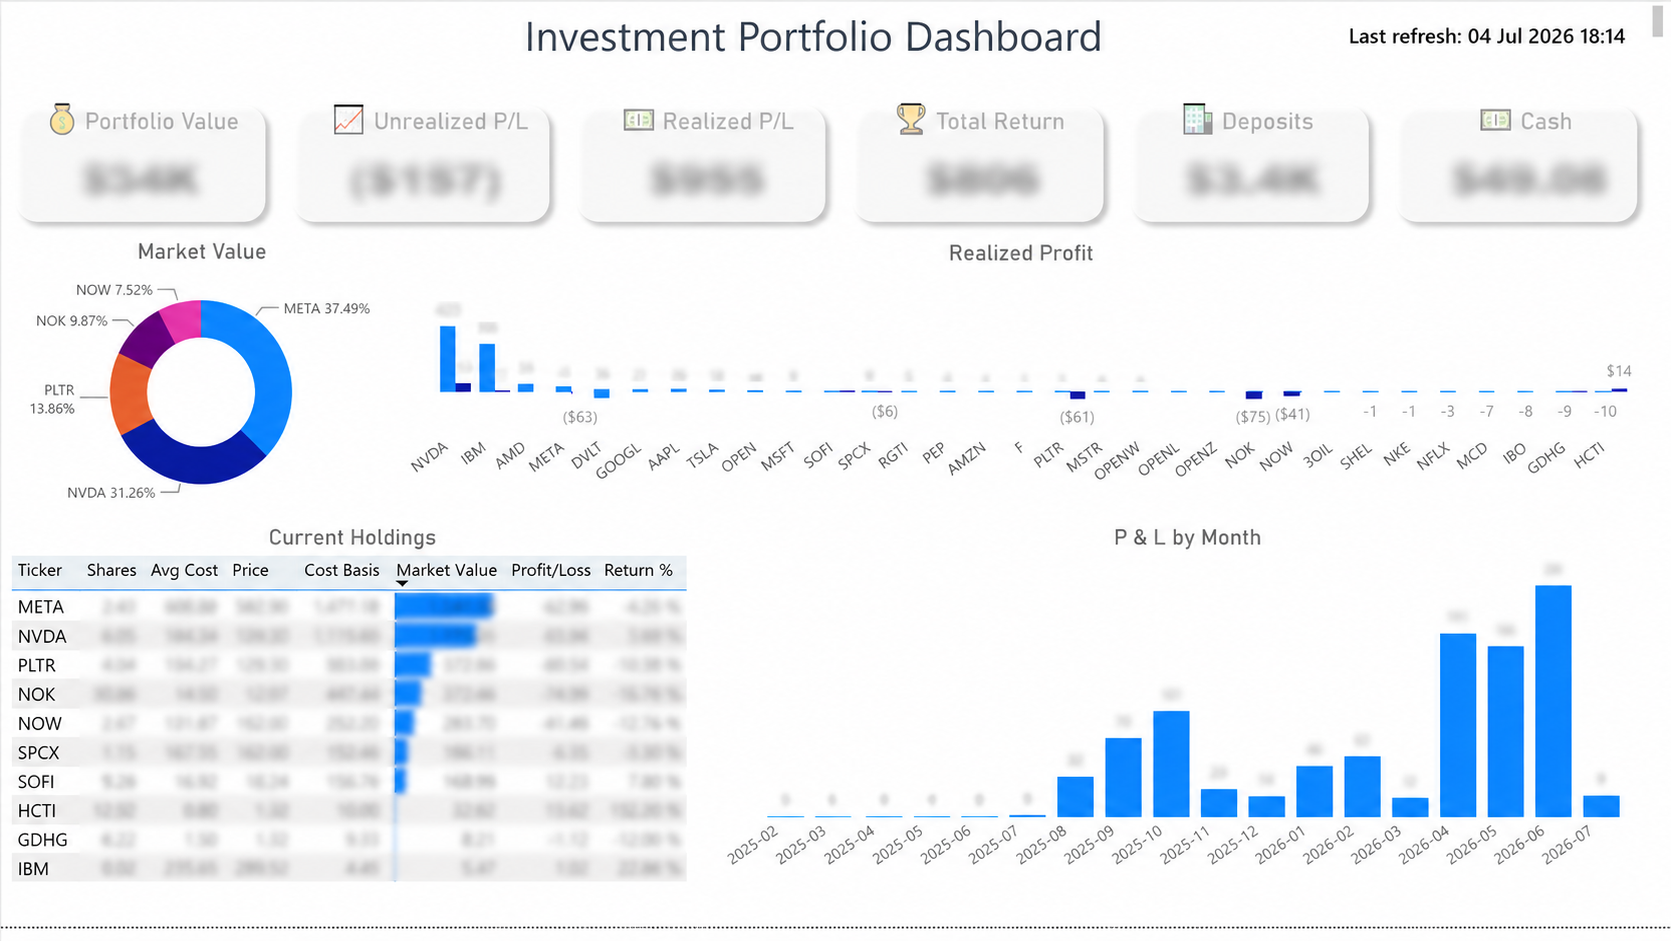

What the dashboard file says about the page in this screenshot:
{"tool":"powerbi","page":{"name":"Investment Portfolio Dashboard","canvas":[1280,720],"ordinal":0},"visuals":[{"type":"cardVisual","title":"🏦 Deposits","fields":{"Data":["portfolio_powerbi.Net Cash Invested"]},"box":[866.9,76,193.2,92.8],"z":0},{"type":"cardVisual","title":"💰 Portfolio Value","fields":{"Data":["portfolio_powerbi.Portfolio Value"]},"box":[0.5,76.1,213.6,93.1],"z":1000},{"type":"cardVisual","title":"🏆 Total Return","fields":{"Data":["portfolio_powerbi.Total Return"]},"box":[647.3,76,202.6,92.8],"z":2000},{"type":"cardVisual","title":"📈 Unrealized P/L","fields":{"Data":["portfolio_powerbi.Unrealized Profit"]},"box":[219.2,76,213.6,92.8],"z":3000},{"type":"shape","box":[214.8,71.2,207.7,104.7],"z":4000},{"type":"cardVisual","title":"💵 Cash","fields":{"Data":["portfolio_powerbi.Cash Remaining"]},"box":[1074.5,76,205.1,92.8],"z":5000},{"type":"shape","box":[1064.7,71.2,207.7,104.7],"z":6000},{"type":"cardVisual","title":"💵 Realized P/L","fields":{"Data":["portfolio_powerbi.Realized Profit"]},"box":[432.8,76,213.6,92.8],"z":7000},{"type":"shape","box":[856.7,70.4,207.7,104.7],"z":8000},{"type":"shape","box":[428.8,70.4,207.7,104.7],"z":9000},{"type":"donutChart","title":"Market Value","fields":{"Y":["portfolio_powerbi.Market Value"],"Category":["portfolio_positions.Ticker"]},"box":[0.9,180.4,303,222.1],"z":10000},{"type":"shape","box":[0.9,70.4,207.7,105.5],"z":11000},{"type":"shape","box":[642.7,70.4,207.7,104.7],"z":12000},{"type":"clusteredColumnChart","title":"Realized Profit ","fields":{"Y":["tickersummary.Realized Profit1","portfolio_powerbi.Unrealized Profit"],"Category":["tickersummary.Ticker"]},"box":[303.8,180.4,951.5,199.1],"z":13000},{"type":"tableEx","title":"Current Holdings","fields":{"Values":["portfolio_positions.Ticker","portfolio_positions.Current_Shares","portfolio_positions.Average_Cost","portfolio_positions.Current_Price","portfolio_positions.Remaining_Cost_Basis","portfolio_positions.Market_Value","portfolio_positions.Unrealized_Profit","portfolio_positions.Unrealized Return %"]},"box":[0.9,402.3,538.7,291.9],"z":14000},{"type":"columnChart","title":"P & L by Month","fields":{"Category":["monthlysummary.Month"],"Y":["Sum(monthlysummary.Realized_P&L_USD)"]},"box":[551.5,402.6,703.8,291.9],"z":15000},{"type":"textbox","box":[0,0,1272.3,53.6],"z":16000},{"type":"cardVisual","fields":{"Data":["all_trades.Last Refresh"]},"box":[995.7,0,284.3,53.6],"z":17000}]}

Visuals, with their boxes in screenshot pixels (x1, y1, x2, y2), scaled from the page's 1280x720 canvas onto the 1671x941 screenshot:
"🏦 Deposits" cardVisual: pyautogui.locateOnScreen(1132, 99, 1384, 221)
"💰 Portfolio Value" cardVisual: pyautogui.locateOnScreen(1, 99, 280, 221)
"🏆 Total Return" cardVisual: pyautogui.locateOnScreen(845, 99, 1110, 221)
"📈 Unrealized P/L" cardVisual: pyautogui.locateOnScreen(286, 99, 565, 221)
shape: pyautogui.locateOnScreen(280, 93, 552, 230)
"💵 Cash" cardVisual: pyautogui.locateOnScreen(1403, 99, 1670, 221)
shape: pyautogui.locateOnScreen(1390, 93, 1661, 230)
"💵 Realized P/L" cardVisual: pyautogui.locateOnScreen(565, 99, 844, 221)
shape: pyautogui.locateOnScreen(1118, 92, 1390, 229)
shape: pyautogui.locateOnScreen(560, 92, 831, 229)
"Market Value" donutChart: pyautogui.locateOnScreen(1, 236, 397, 526)
shape: pyautogui.locateOnScreen(1, 92, 272, 230)
shape: pyautogui.locateOnScreen(839, 92, 1110, 229)
"Realized Profit " clusteredColumnChart: pyautogui.locateOnScreen(397, 236, 1639, 496)
"Current Holdings" tableEx: pyautogui.locateOnScreen(1, 526, 704, 907)
"P & L by Month" columnChart: pyautogui.locateOnScreen(720, 526, 1639, 908)
textbox: pyautogui.locateOnScreen(0, 0, 1661, 70)
cardVisual - all_trades.Last Refresh: pyautogui.locateOnScreen(1300, 0, 1670, 70)
